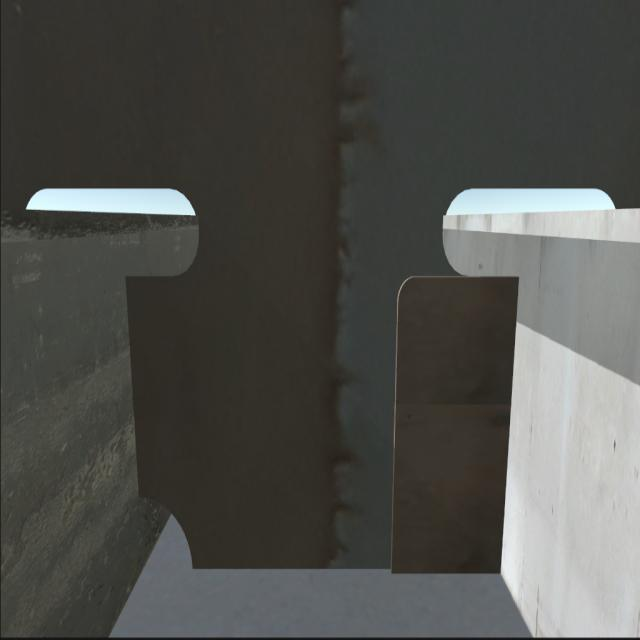fillet_hole: (141, 497, 197, 569)
fillet_yong_jeop_jang: (187, 554, 506, 588)
longi_yong_jeop_jang: (496, 267, 525, 581), (115, 266, 147, 506)
plate_CP05: (390, 272, 506, 576)
